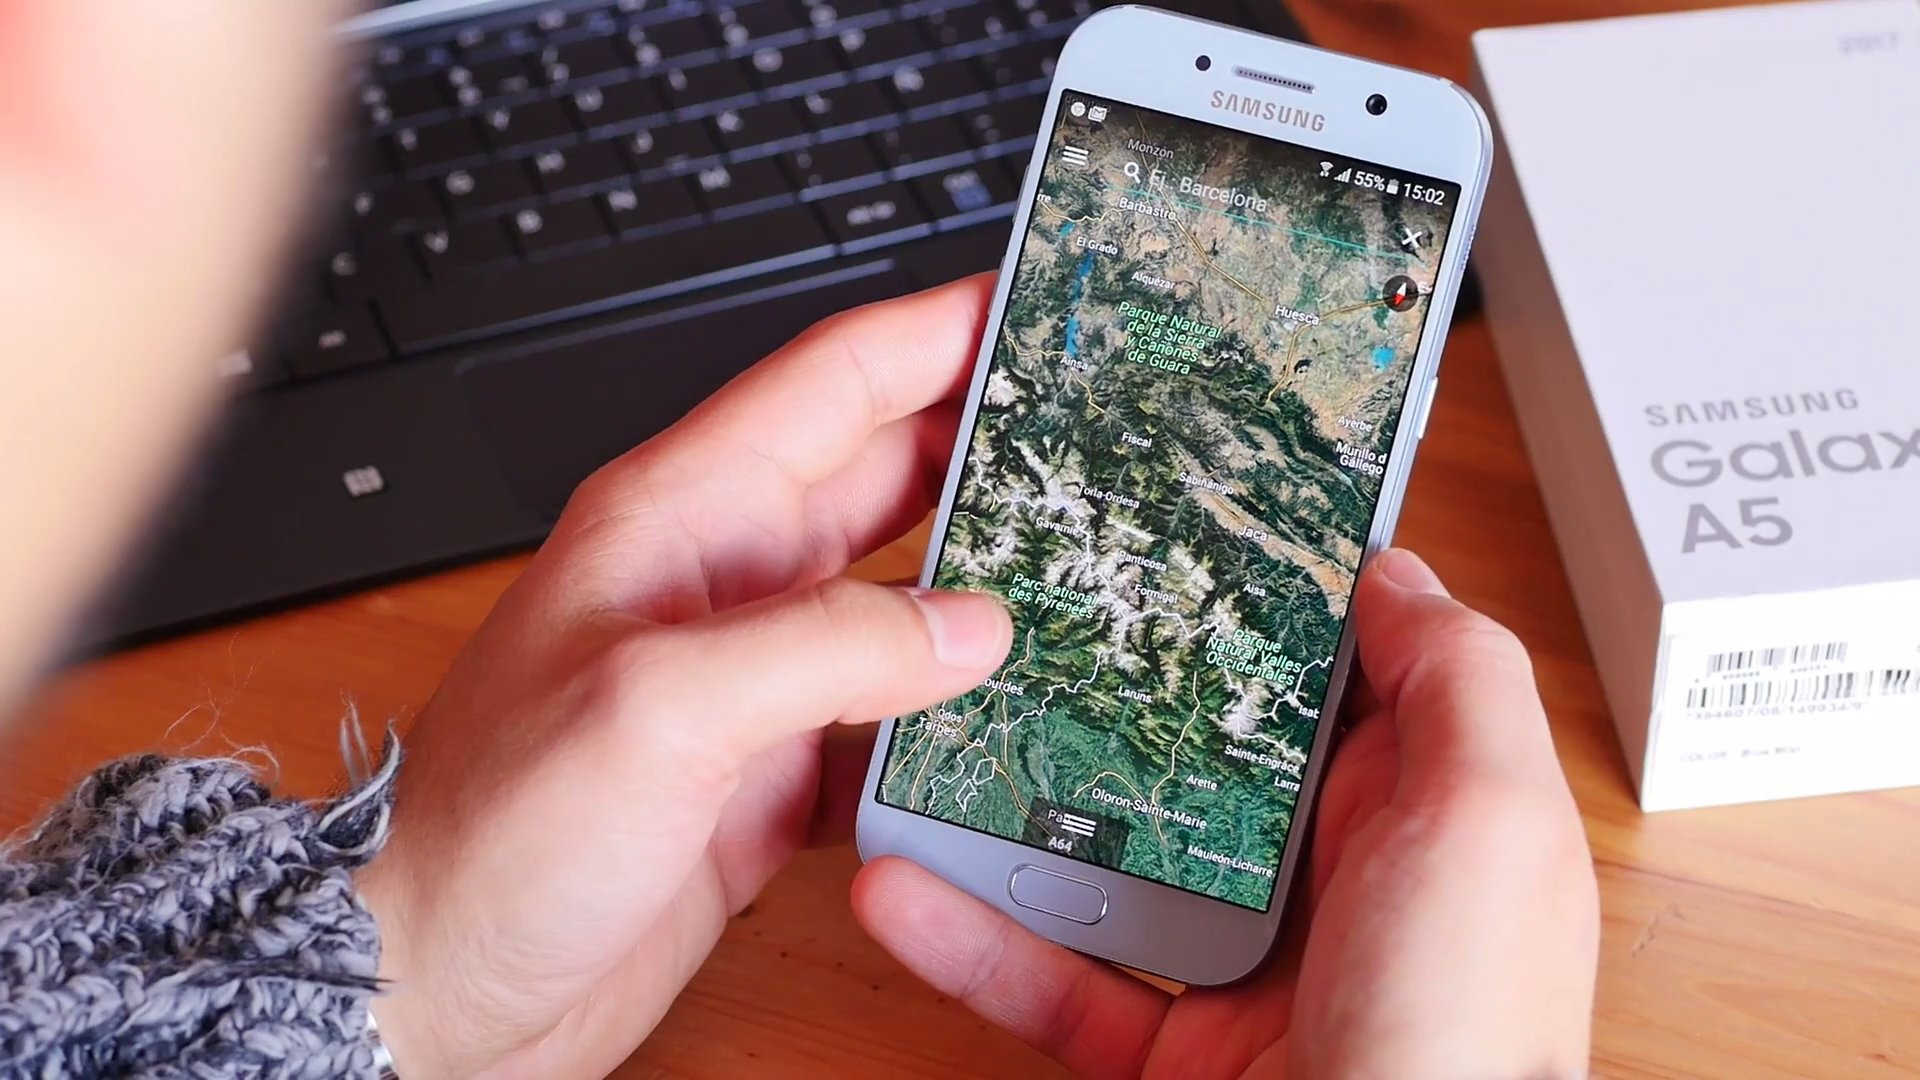smartphone: (852, 4, 1495, 989)
